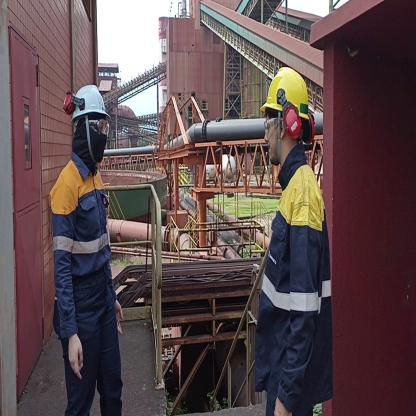Balaclava: (73, 117, 106, 168)
C_eletrica: (254, 176, 336, 416)
Capacete: (266, 65, 310, 115), (65, 78, 113, 117)
Operacional: (50, 164, 121, 335)
